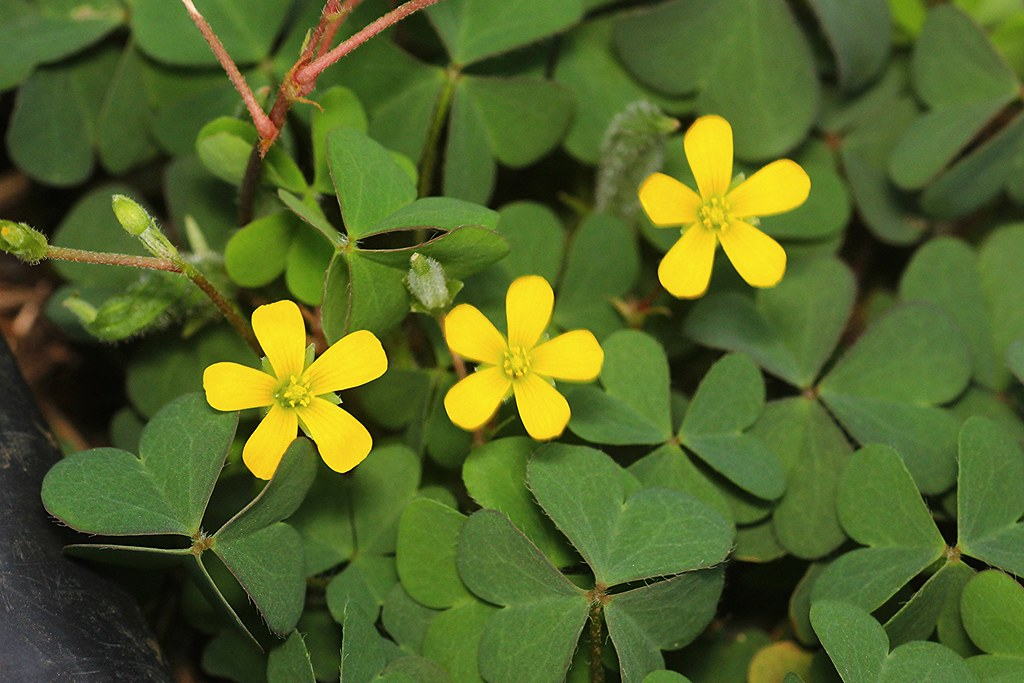oxalis: (71, 57, 1011, 683)
